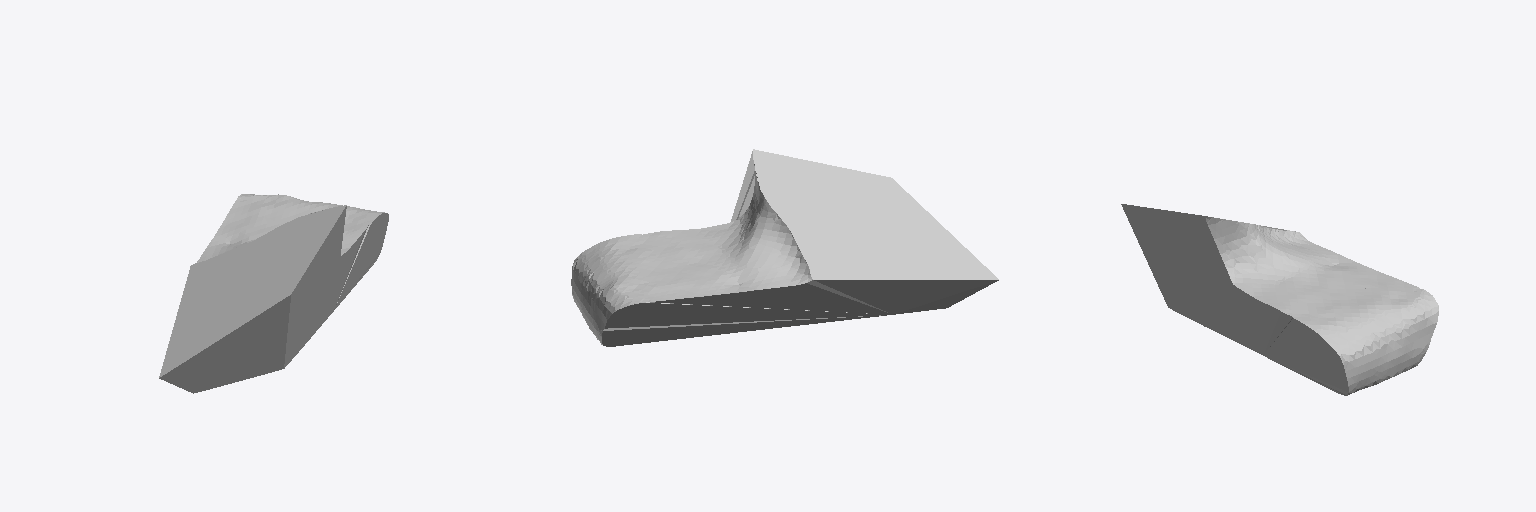
Rendered from low_cell_012.obj.
3 renders of one model, left to right at view 1: azimuth 30°, elevation 25°; view 2: azimuth 150°, elevation 25°; view 3: azimuth 270°, elevation 25°, orthographic.
Parts seen in each view (by area): view 1: low_cell.012_low_cell.011; view 2: low_cell.012_low_cell.011; view 3: low_cell.012_low_cell.011.
Part boxes in pixels (x1,y1,x2,y2): low_cell.012_low_cell.011: (159,194,388,393); low_cell.012_low_cell.011: (571,149,998,346); low_cell.012_low_cell.011: (1121,204,1438,395).
Size of the model in its own units: 0.897 by 0.3443 by 0.7526.